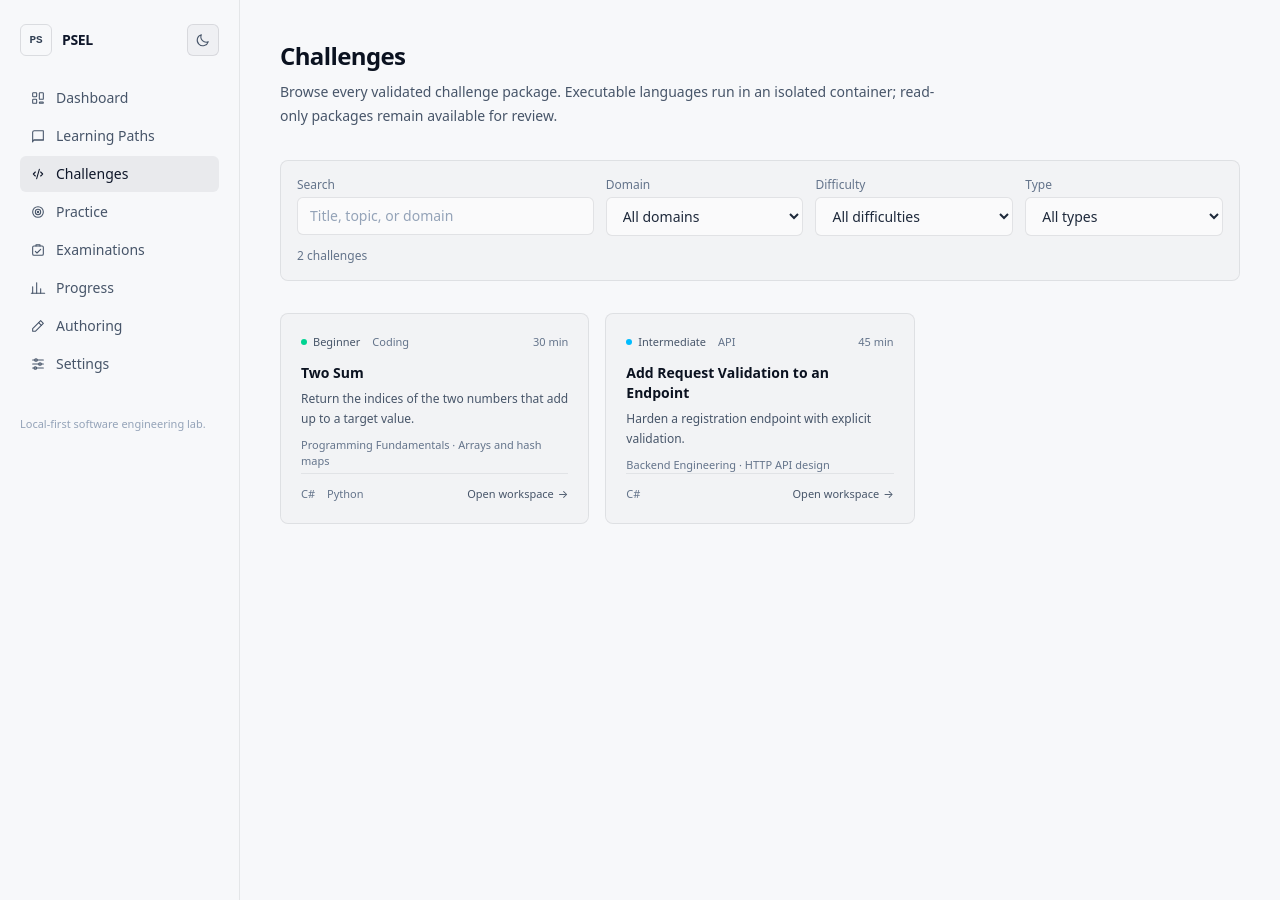
Test: ChallengesPage › filters by difficulty and clears the filters
The image size is (1280, 900).
Expected: the link "Two Sum" is shown, [280,313,589,524]
Select "Intermediate" in the dropdown labelled "Difficulty" at (914, 216), box [815,197,1013,236]
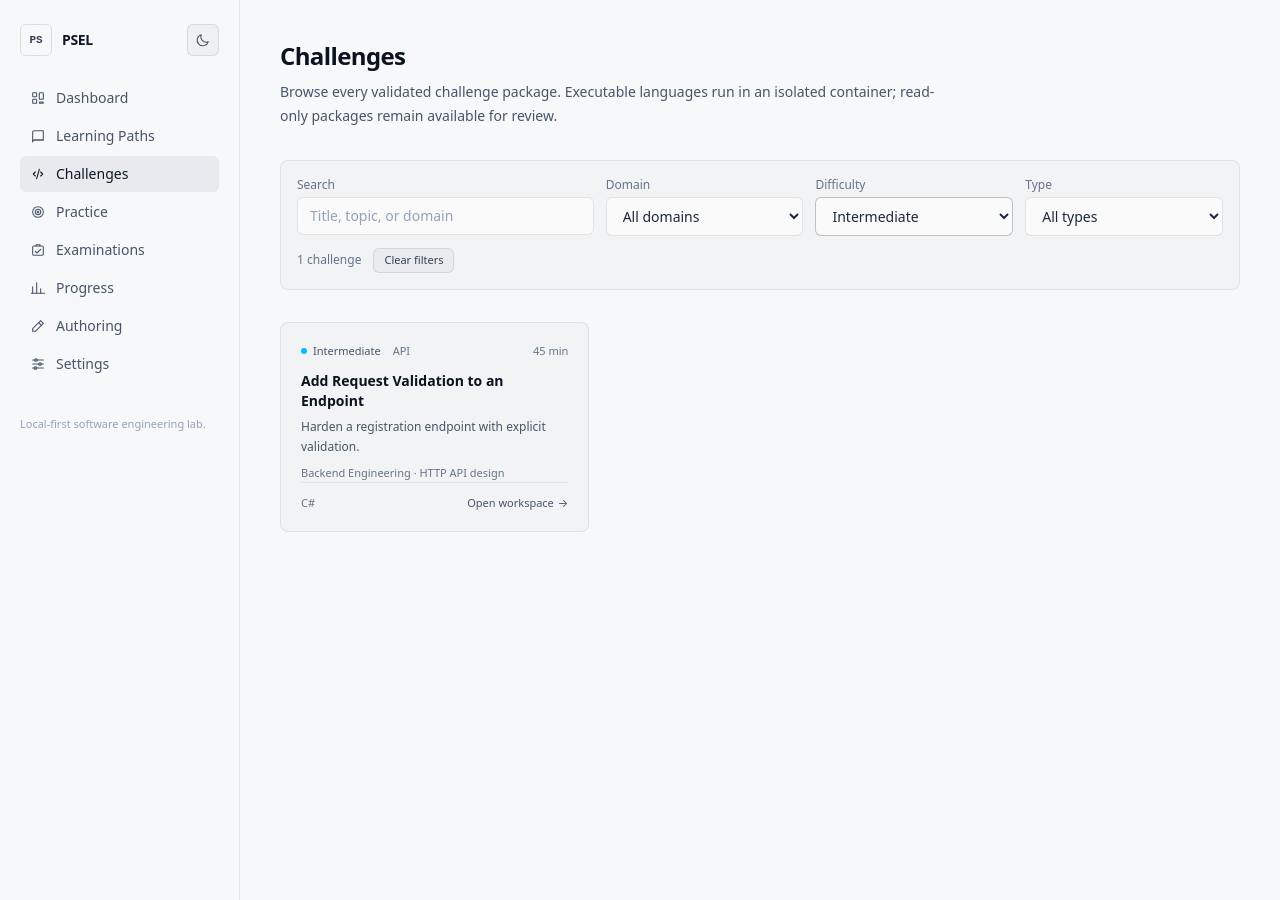
Expected: the link "Add Request Validation to an Endpoint" is shown, [280,322,589,532]
Expected: the link "Two Sum" is gone
Click the button "Clear filters" at (414, 260), box [373,248,454,273]
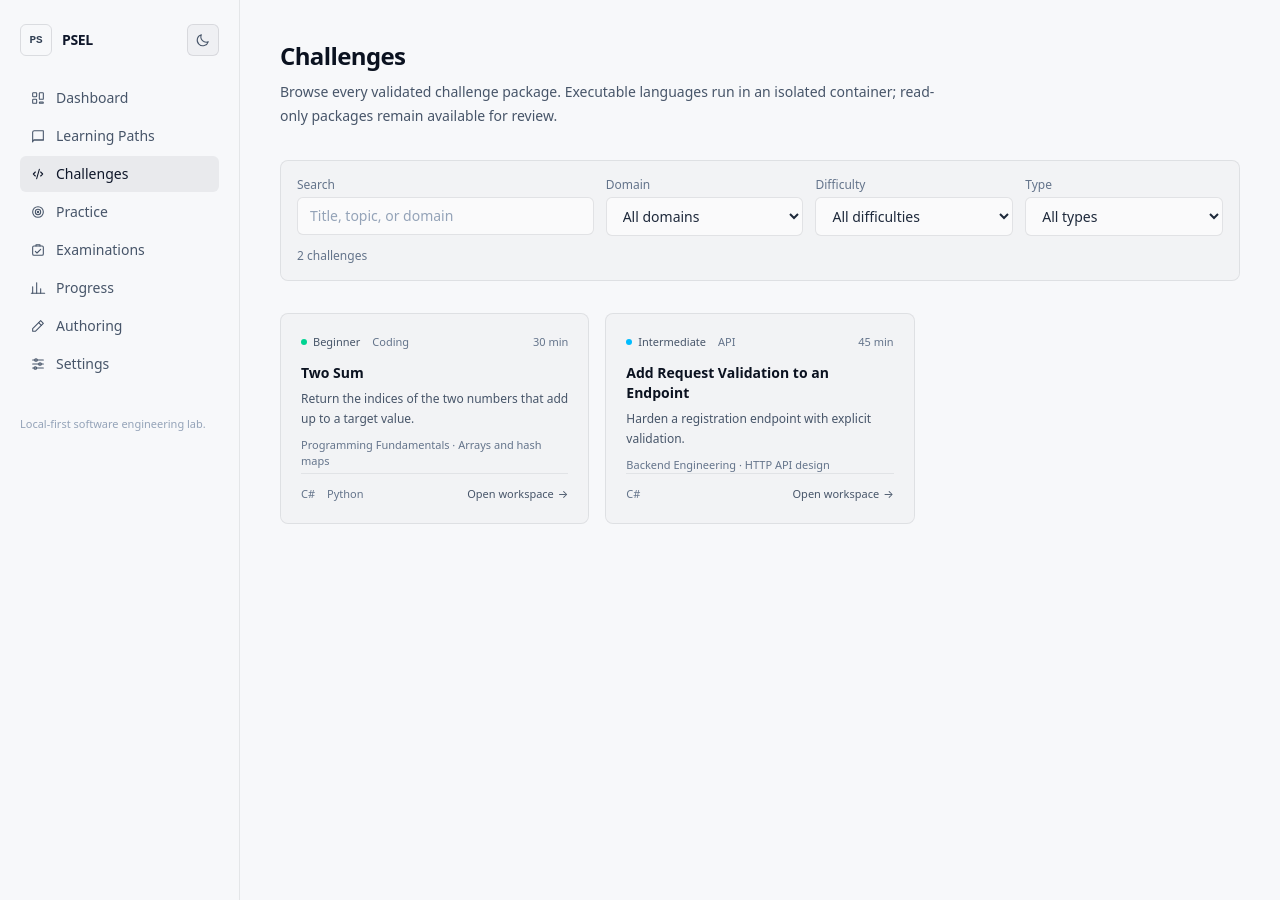
Expected: the link "Two Sum" is shown, [280,313,589,524]
Expected: the text "2 challenges" is shown, [297,248,367,264]
